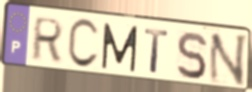C: (66, 17, 101, 71)
M: (100, 21, 140, 74)
N: (207, 33, 250, 88)
R: (29, 15, 66, 63)
S: (175, 30, 208, 81)
T: (143, 26, 170, 75)
